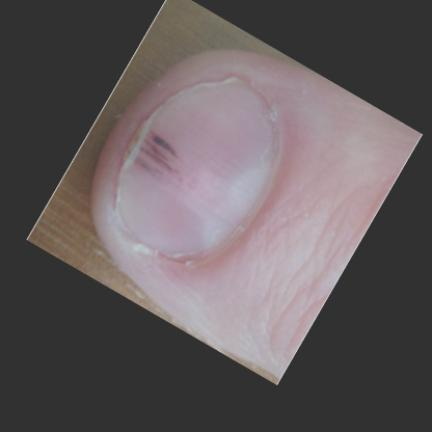Nail: (115, 78, 280, 262)
